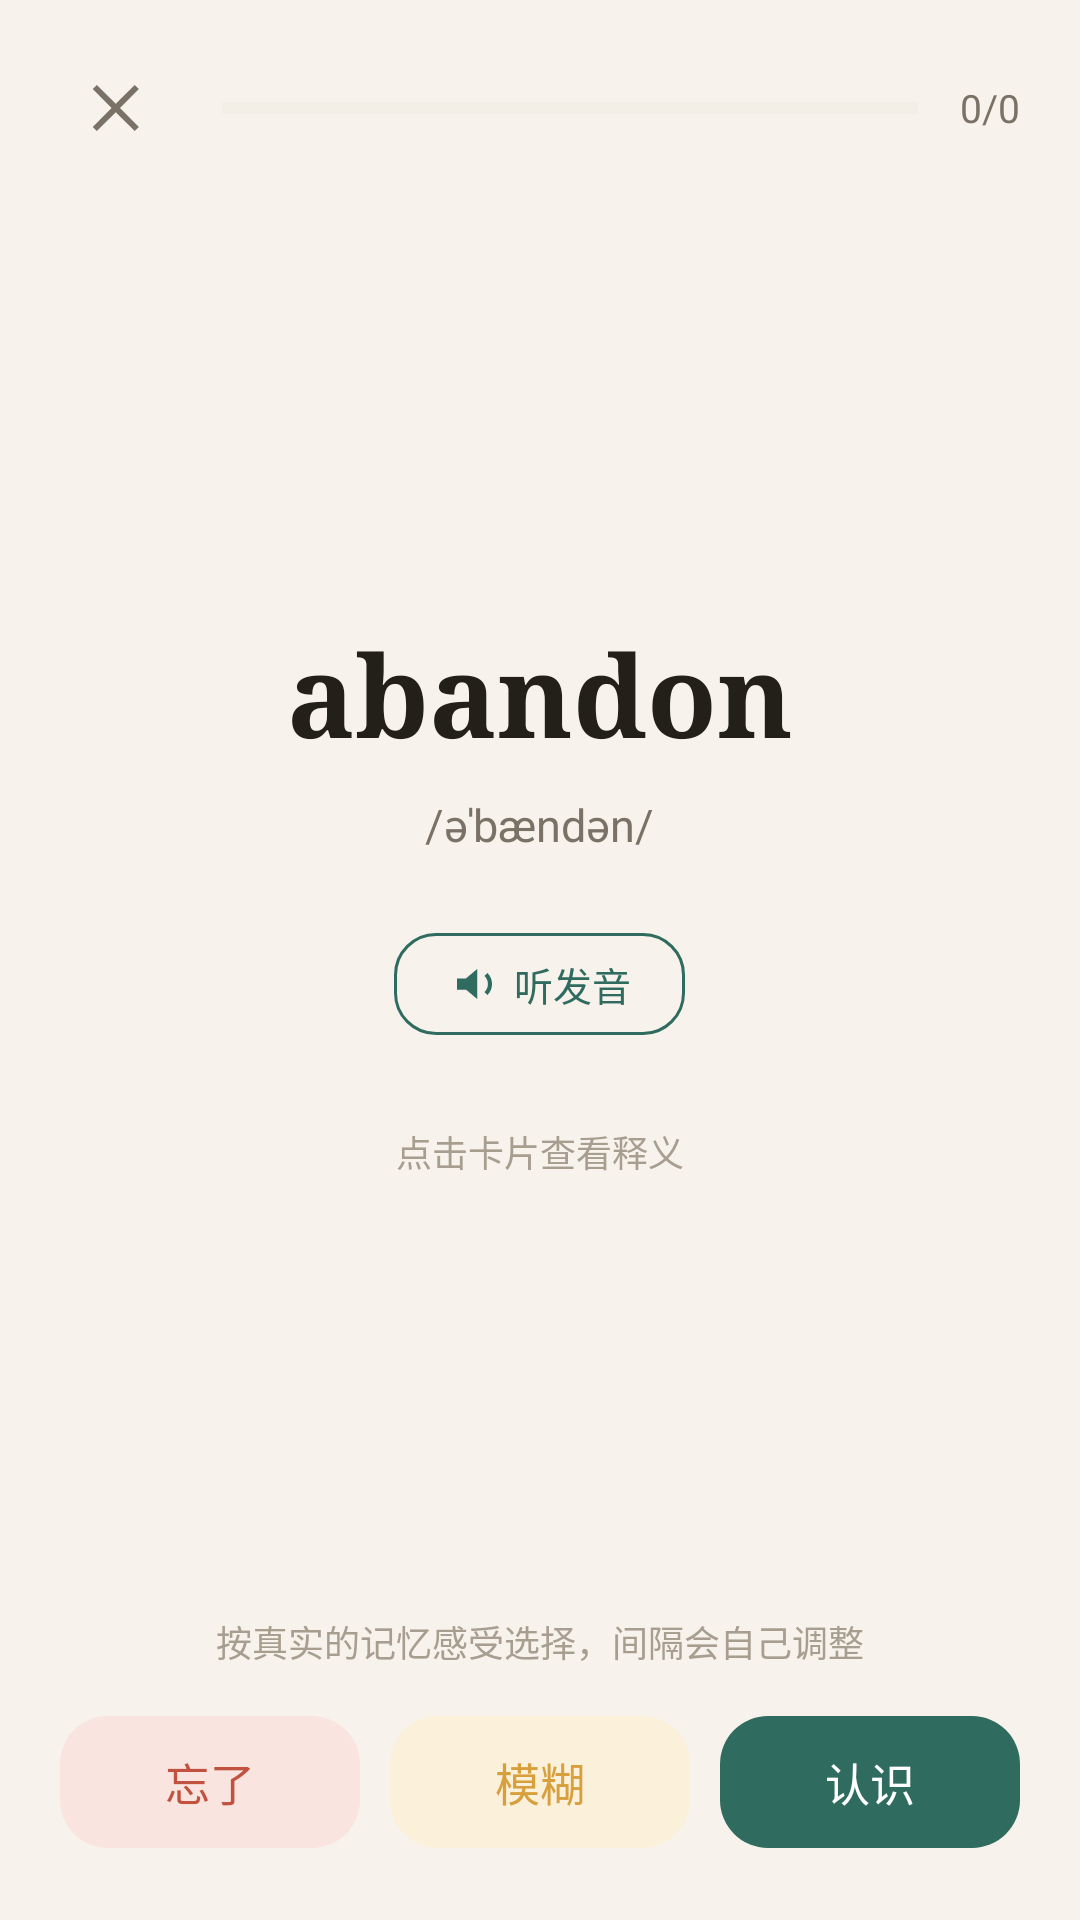

Named icons in this screenshot (1080 × 1920) and their centers, point (x, y):
关闭: point (116, 108)
